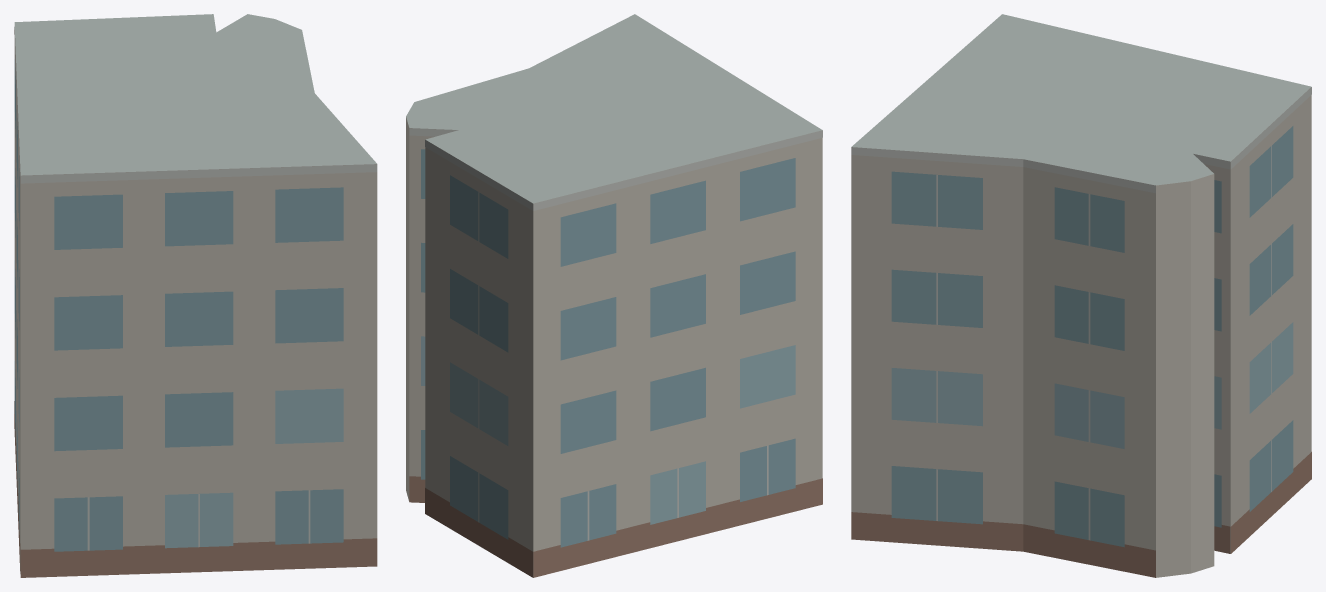
Rendered from survey-upis-32727857.glb.
3 views of the same model, side by side, from view 1: azimuth 30°, elevation 25°; view 2: azimuth 150°, elevation 25°; view 3: azimuth 270°, elevation 25° (orthographic). The views are drawn at different scales.
Visible parts, largest first — view 1: survey-upis-32727857.tmp; view 2: survey-upis-32727857.tmp; view 3: survey-upis-32727857.tmp.
Part boxes in pixels (bbox=[...]): survey-upis-32727857.tmp: bbox=[14, 14, 377, 577]; survey-upis-32727857.tmp: bbox=[406, 14, 822, 577]; survey-upis-32727857.tmp: bbox=[851, 14, 1311, 577].
Bounding box in the file's own units: 11.35 × 12.1 × 12.88.
